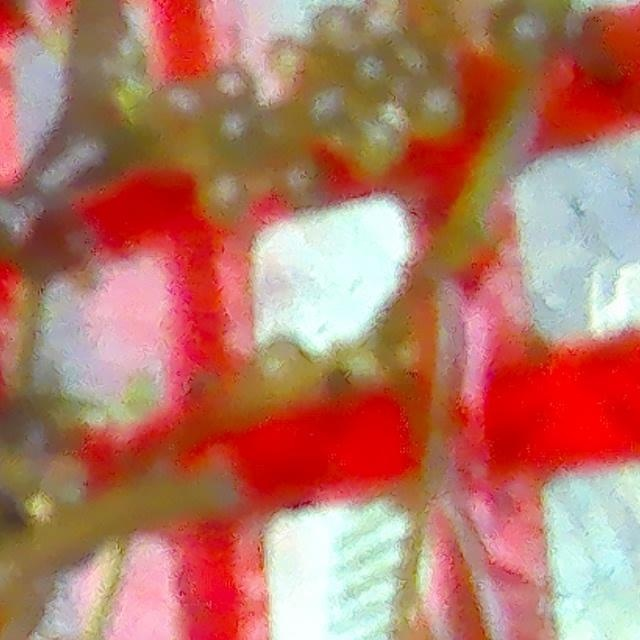SeaGrape: (407, 84, 466, 144)
